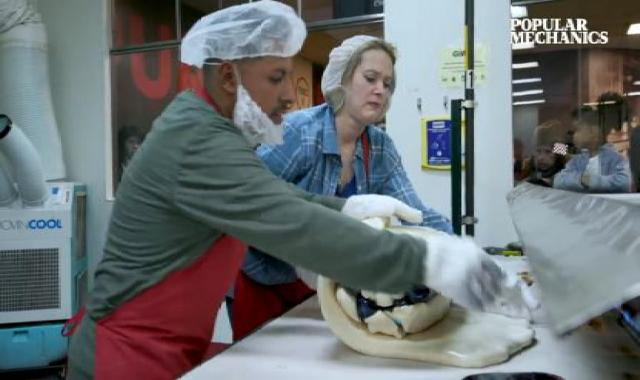hairnet: (165, 2, 314, 69), (314, 34, 406, 109)
